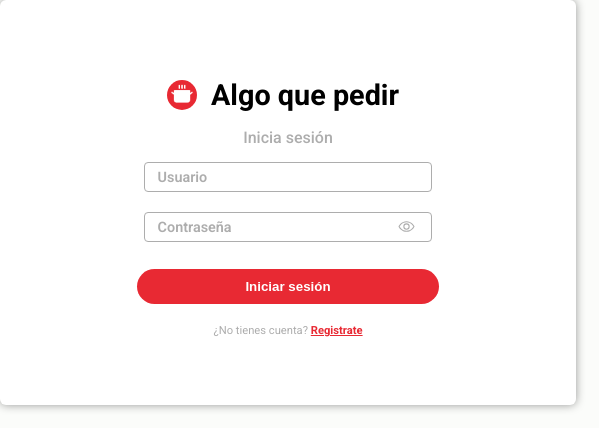
Test case: auth tests › muestra error si los campos están vacios
The width and height of the screenshot is (599, 428).
Click the button with test id "btn-submit". click: (288, 287)
box: [137,269,439,304]
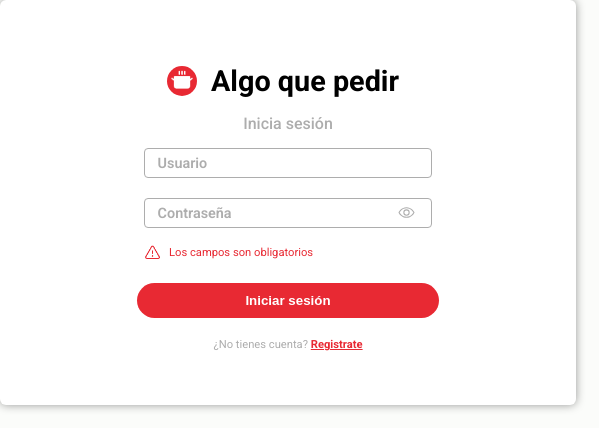
Expected: the element with test id "error-msg" reads "Los campos son obligatorios", [169,246,313,259]
